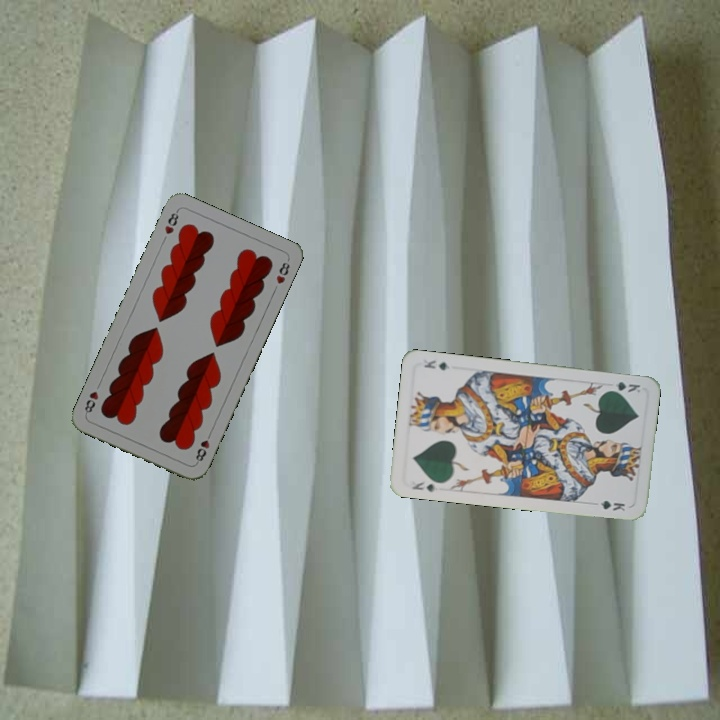GK: (603, 377, 643, 395), (408, 477, 440, 494)
H8: (191, 428, 214, 466), (160, 206, 181, 237)
